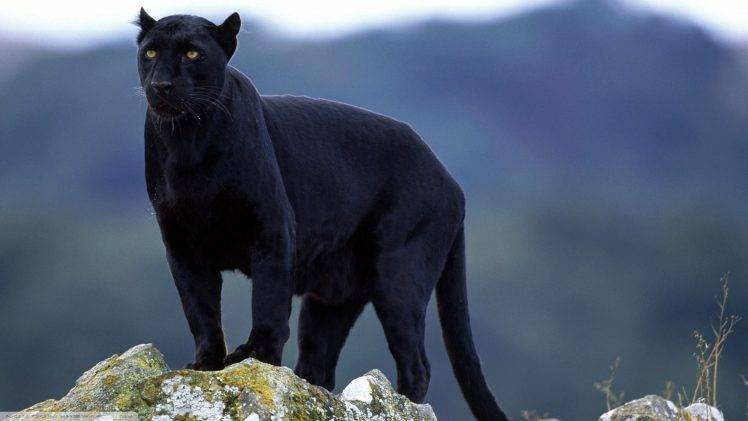panther: (110, 2, 255, 134)
